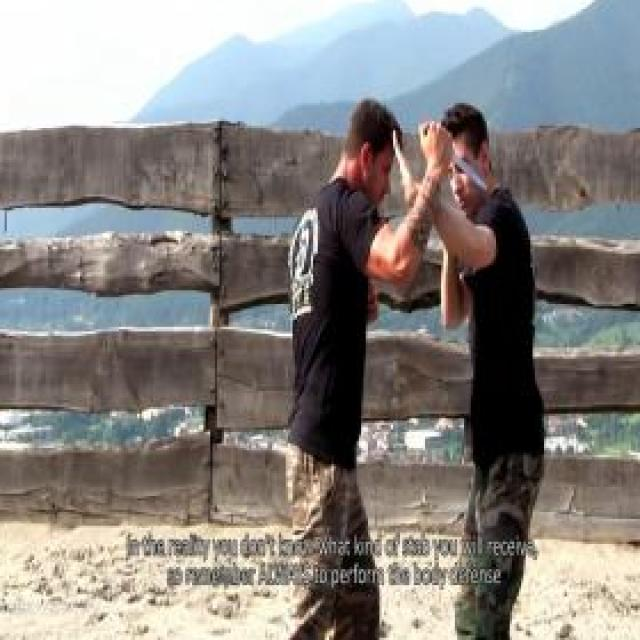knife: (418, 117, 493, 194)
